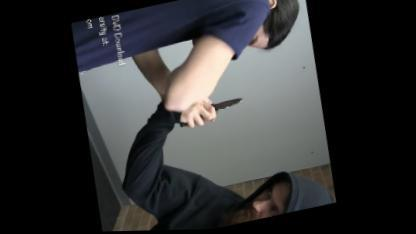knife: (183, 92, 250, 130)
